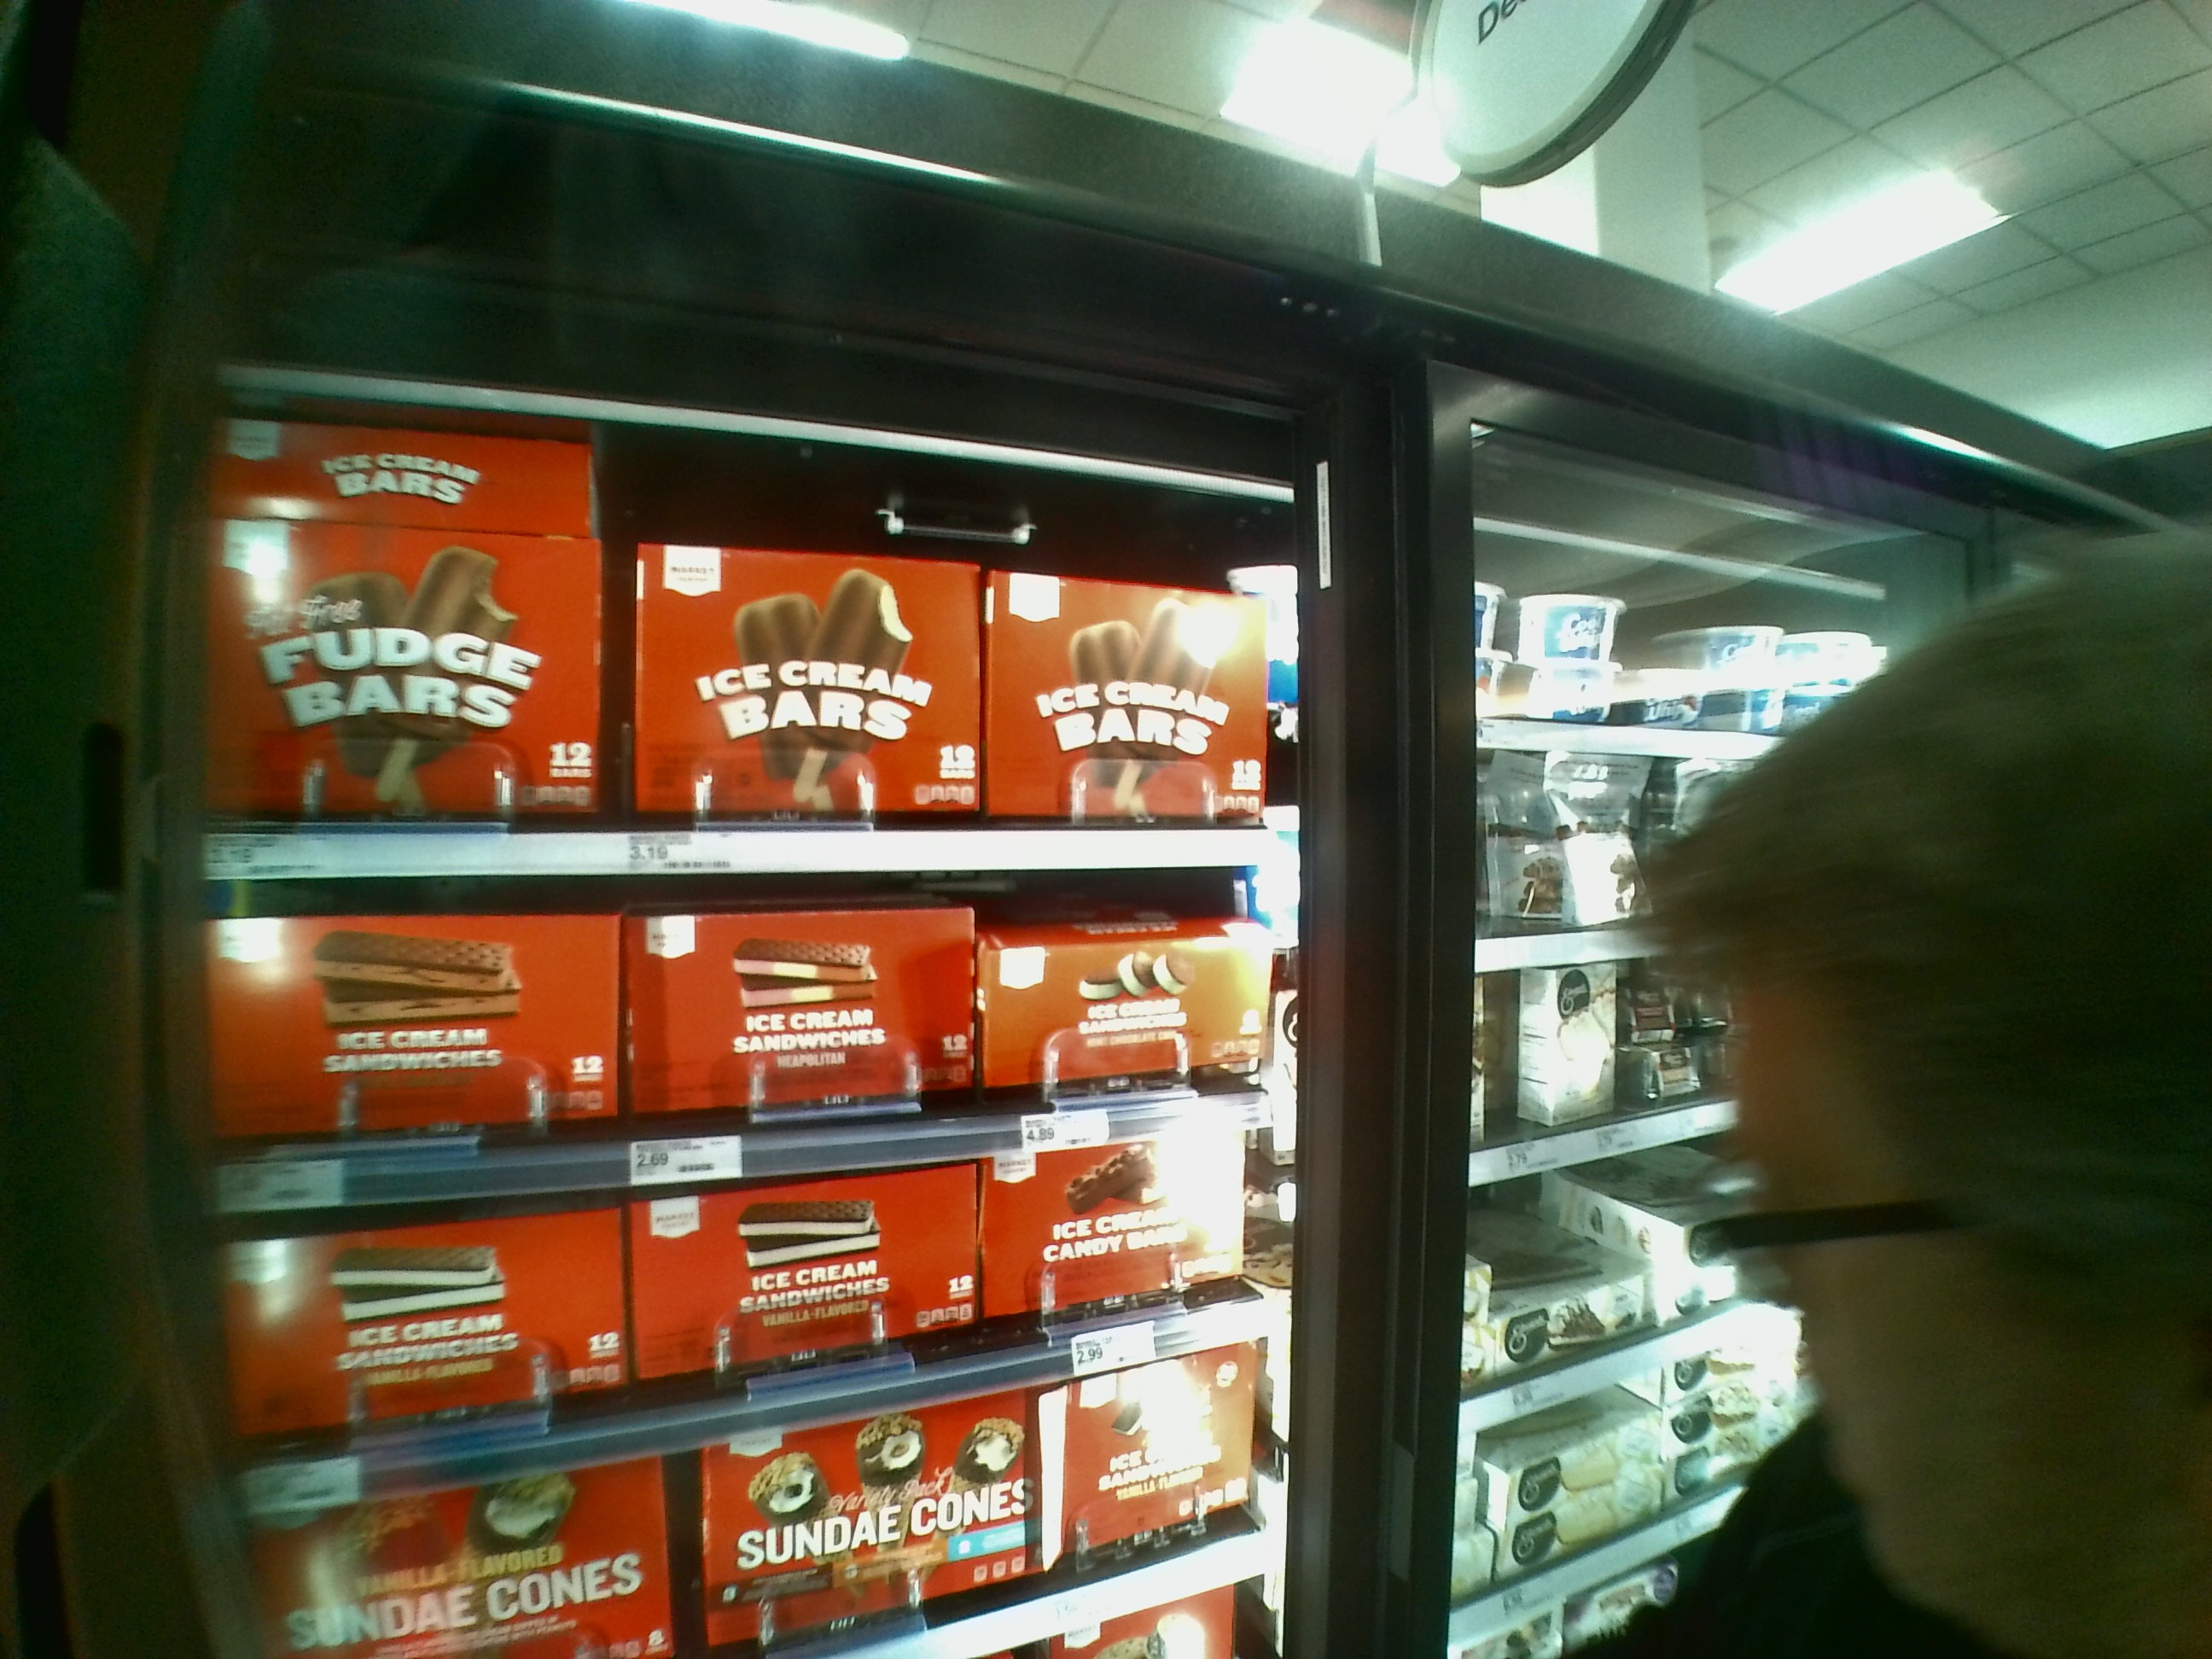shelf: (209, 406, 1291, 878), (200, 877, 1303, 1171), (239, 1133, 1289, 1436)
